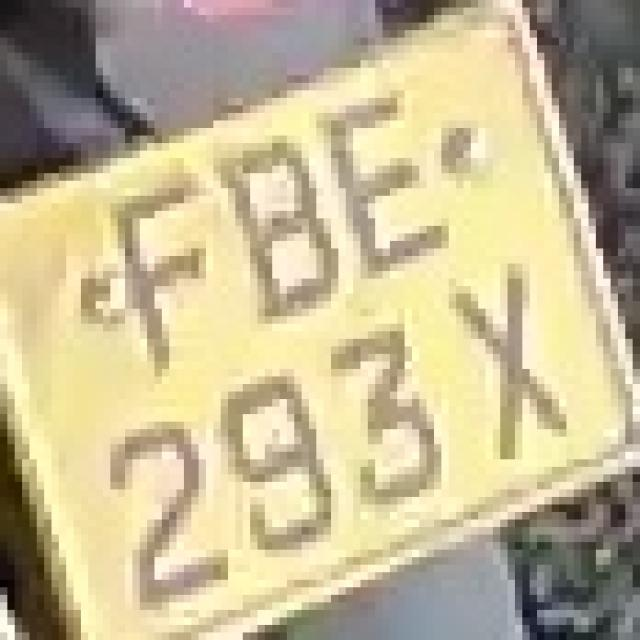2: (96, 414, 228, 618)
3: (316, 316, 456, 512)
9: (191, 377, 353, 572)
B: (206, 120, 338, 347)
E: (316, 83, 449, 263)
F: (96, 166, 220, 399)
X: (427, 263, 581, 467)
